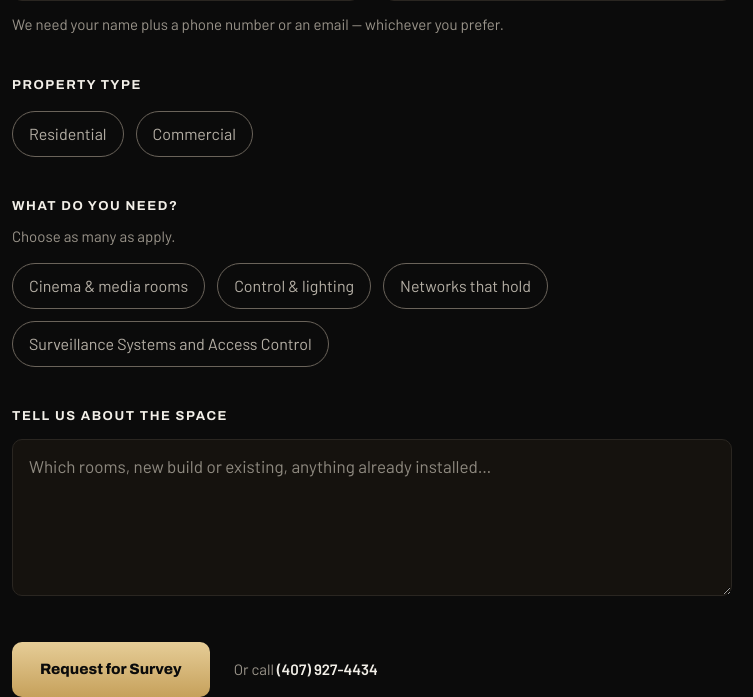
Test: QuoteForm › clears a field's error as soon as the visitor starts fixing it
The image size is (753, 697).
(page scrolled)
Click the button "Request for Survey" at point(111, 669), box x1=12 y1=642 x2=210 y2=696
(page scrolled)
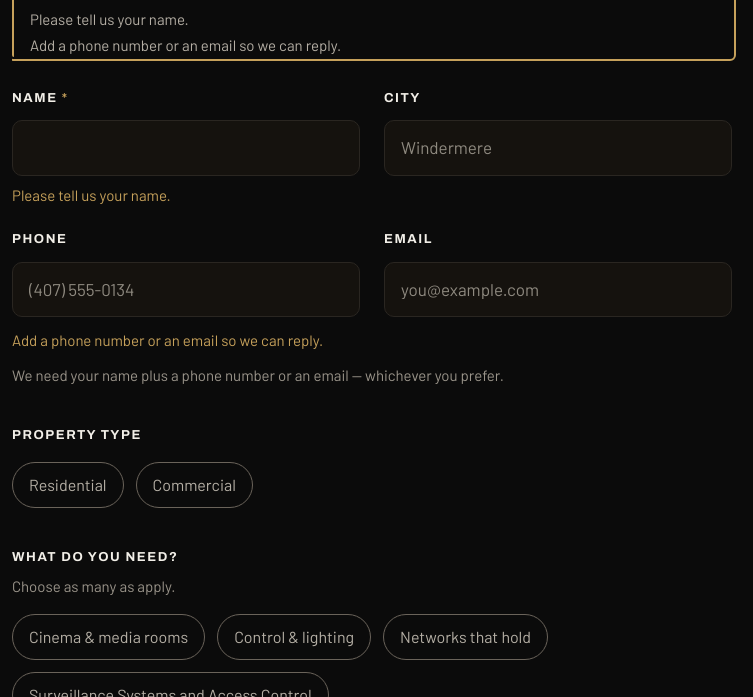
expect the message shows "tell us your name": met, box x1=30 y1=10 x2=189 y2=28
Type "T" into the field labelled "Name *" at point(186, 148), box x1=12 y1=120 x2=360 y2=176
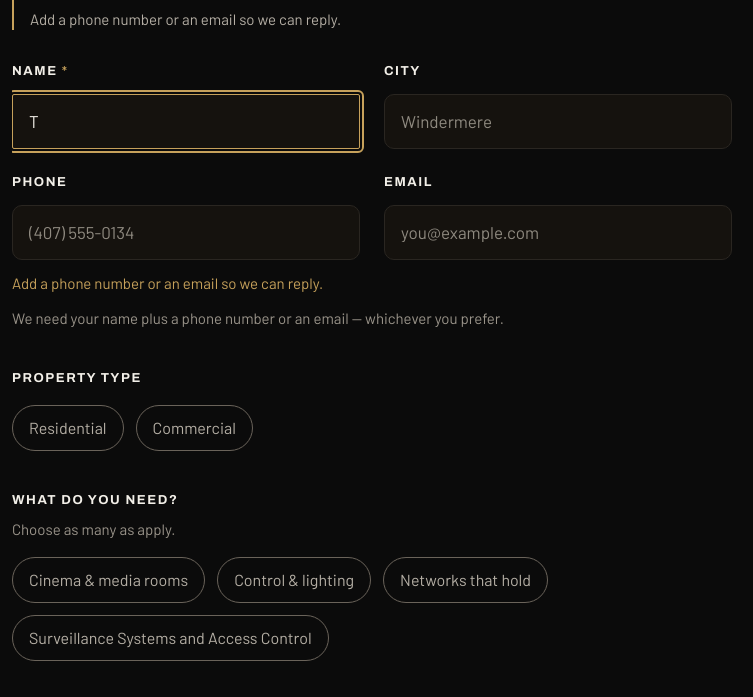
expect the list item "tell us your name" is gone: met
